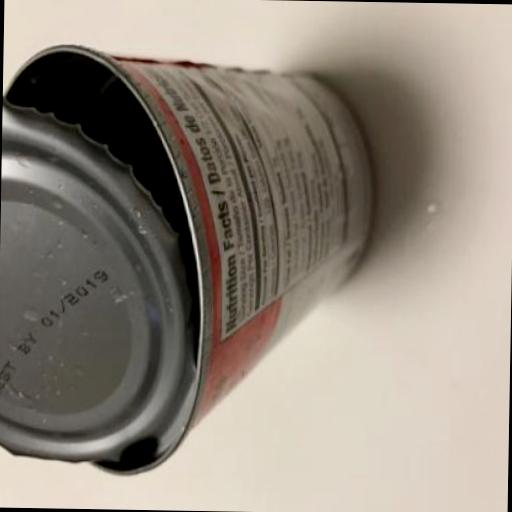metal: (0, 42, 373, 479)
